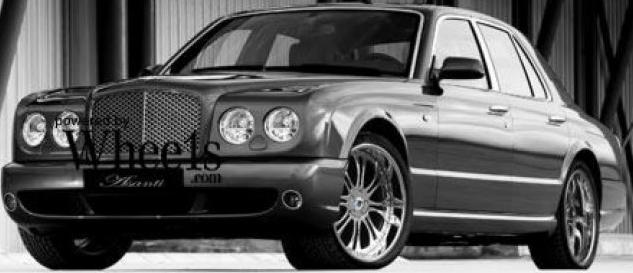front_view: (11, 86, 338, 230)
headlight: (218, 96, 306, 150)
side_glass: (427, 7, 556, 105)
